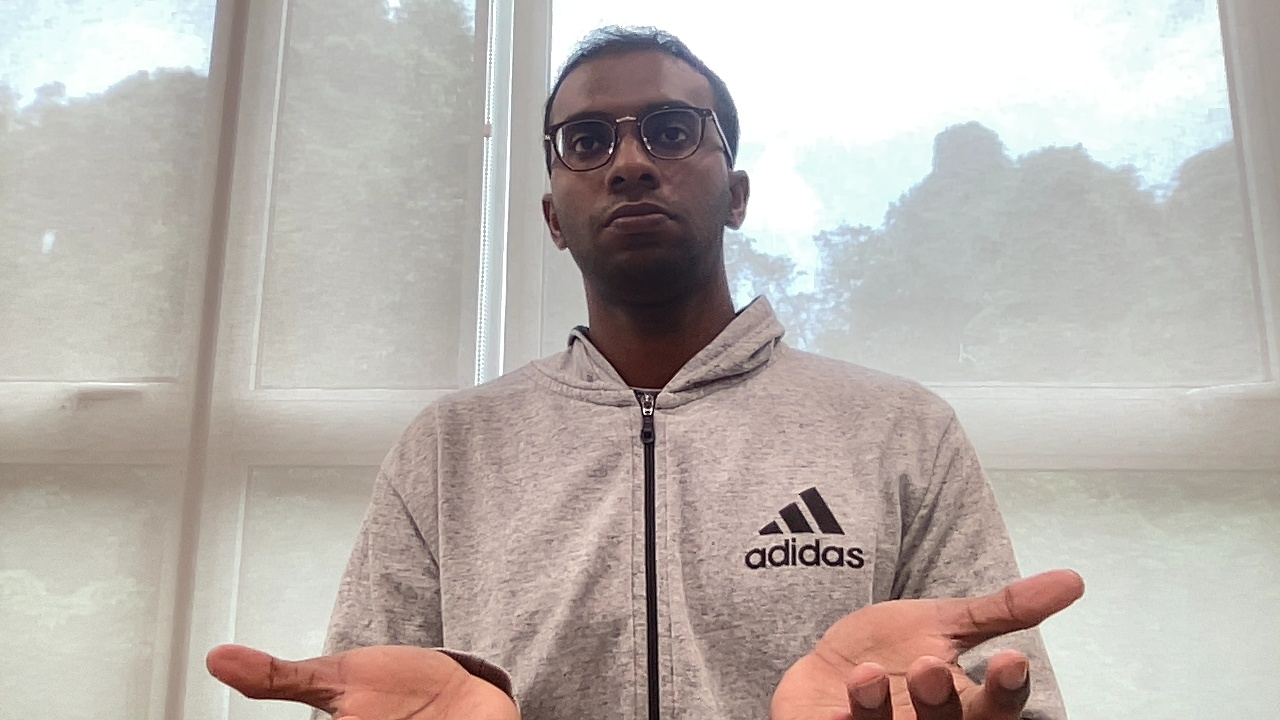give: (199, 570, 1102, 720)
